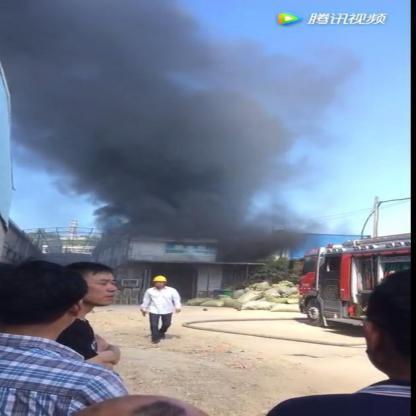smoke: (4, 0, 221, 171), (225, 47, 341, 174), (76, 168, 268, 242), (244, 217, 312, 259)
